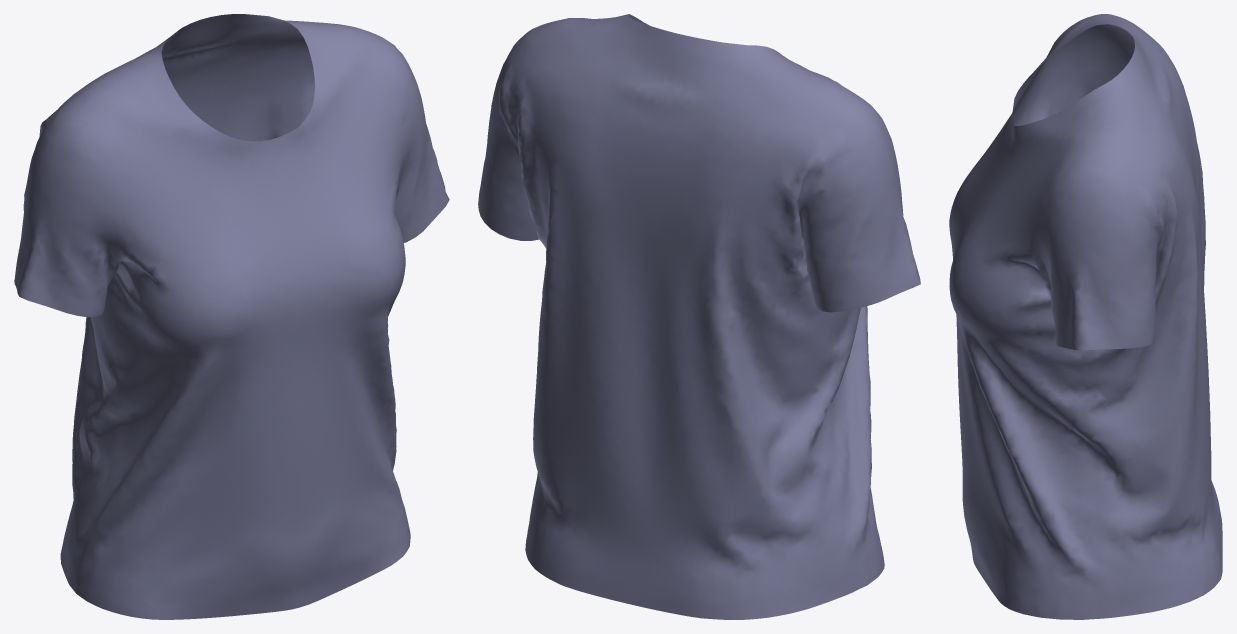
3 views of the same model, side by side, from view 1: azimuth 30°, elevation 25°; view 2: azimuth 150°, elevation 25°; view 3: azimuth 270°, elevation 25° (orthographic). The views are drawn at different scales.
Parts seen in each view (by area): view 1: Body_Front (×2), Body_Back (×2), Sleeves (×2), Ribbing (×2); view 2: Body_Back (×2), Sleeves (×2), Body_Front, Ribbing; view 3: Body_Front (×2), Body_Back (×2), Sleeves (×2), Ribbing (×2).
Part boxes in pixels (left/top/right/bottom): Body_Front (×2): left=67, top=36, right=410, bottom=619; Body_Back (×2): left=45, top=19, right=401, bottom=588; Sleeves (×2): left=14, top=50, right=449, bottom=317; Ribbing (×2): left=147, top=14, right=327, bottom=155; Body_Back (×2): left=504, top=17, right=872, bottom=619; Sleeves (×2): left=478, top=42, right=920, bottom=312; Body_Front: left=784, top=57, right=884, bottom=588; Ribbing: left=613, top=14, right=782, bottom=58; Body_Front (×2): left=949, top=17, right=1093, bottom=619; Body_Back (×2): left=1080, top=14, right=1222, bottom=619; Sleeves (×2): left=1032, top=24, right=1164, bottom=350; Ribbing (×2): left=1010, top=23, right=1141, bottom=140.
Bounding box in the file's own units: 47.46 × 56.47 × 27.43.
